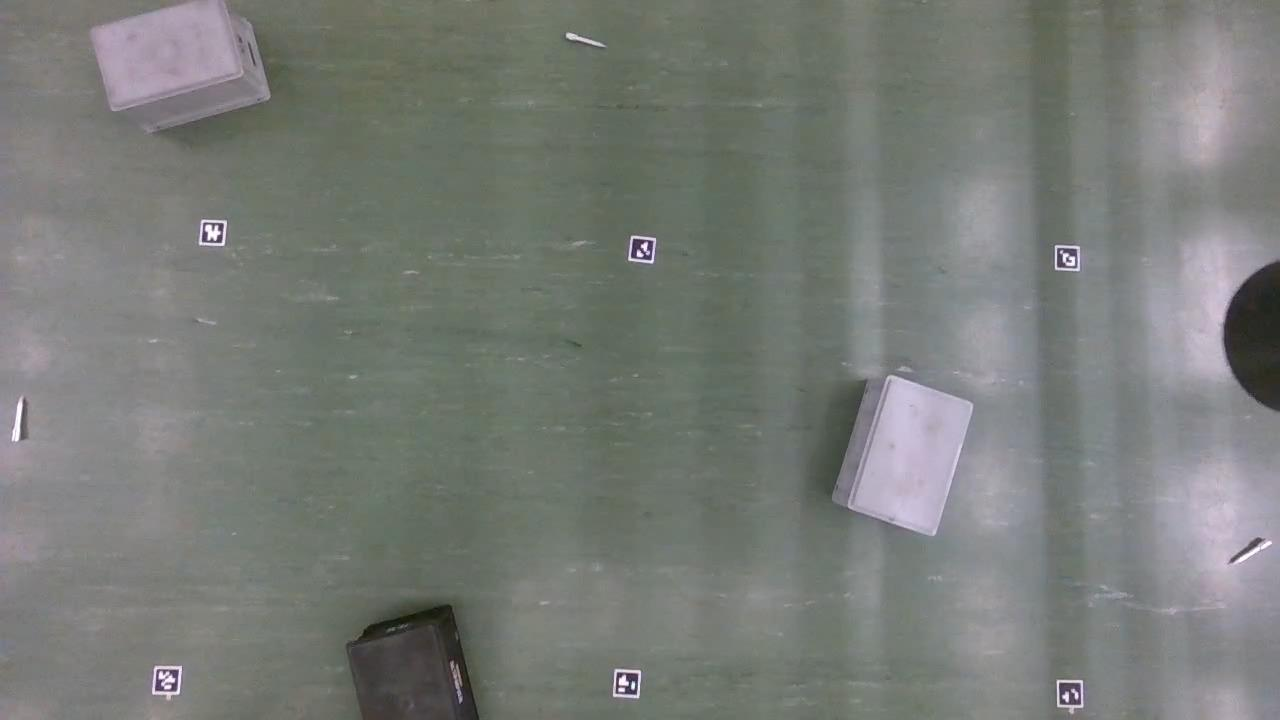probes: (1230, 538, 1268, 565), (567, 32, 605, 49), (15, 397, 27, 443)
rako: (90, 0, 272, 137), (829, 371, 974, 541), (347, 607, 479, 720)
